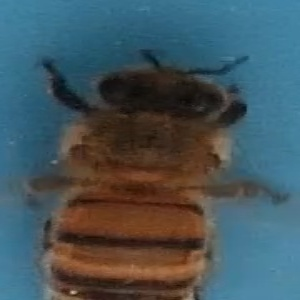bee: (32, 50, 292, 300)
